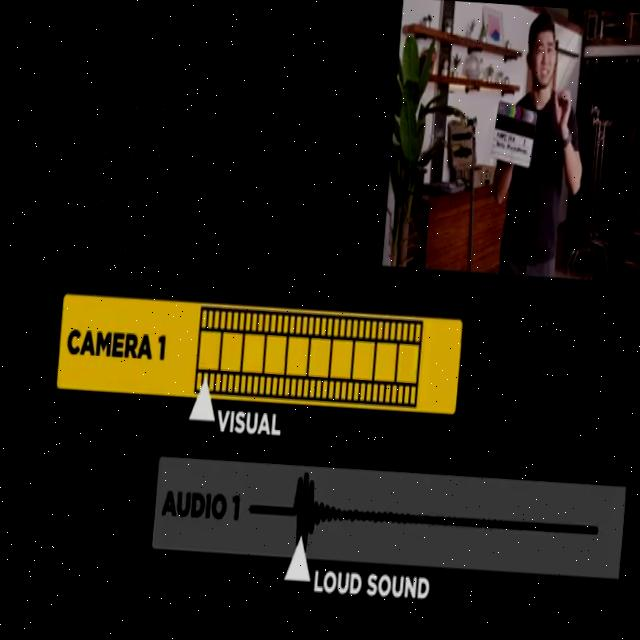Clapperboard: (488, 101, 536, 166)
